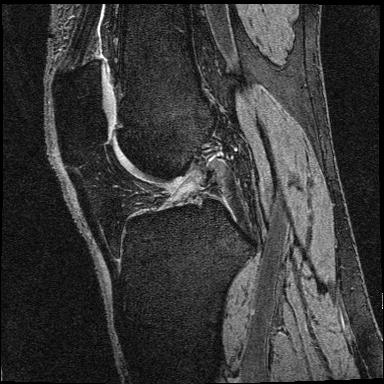SagKneeJointArea: (51, 59, 259, 272)
